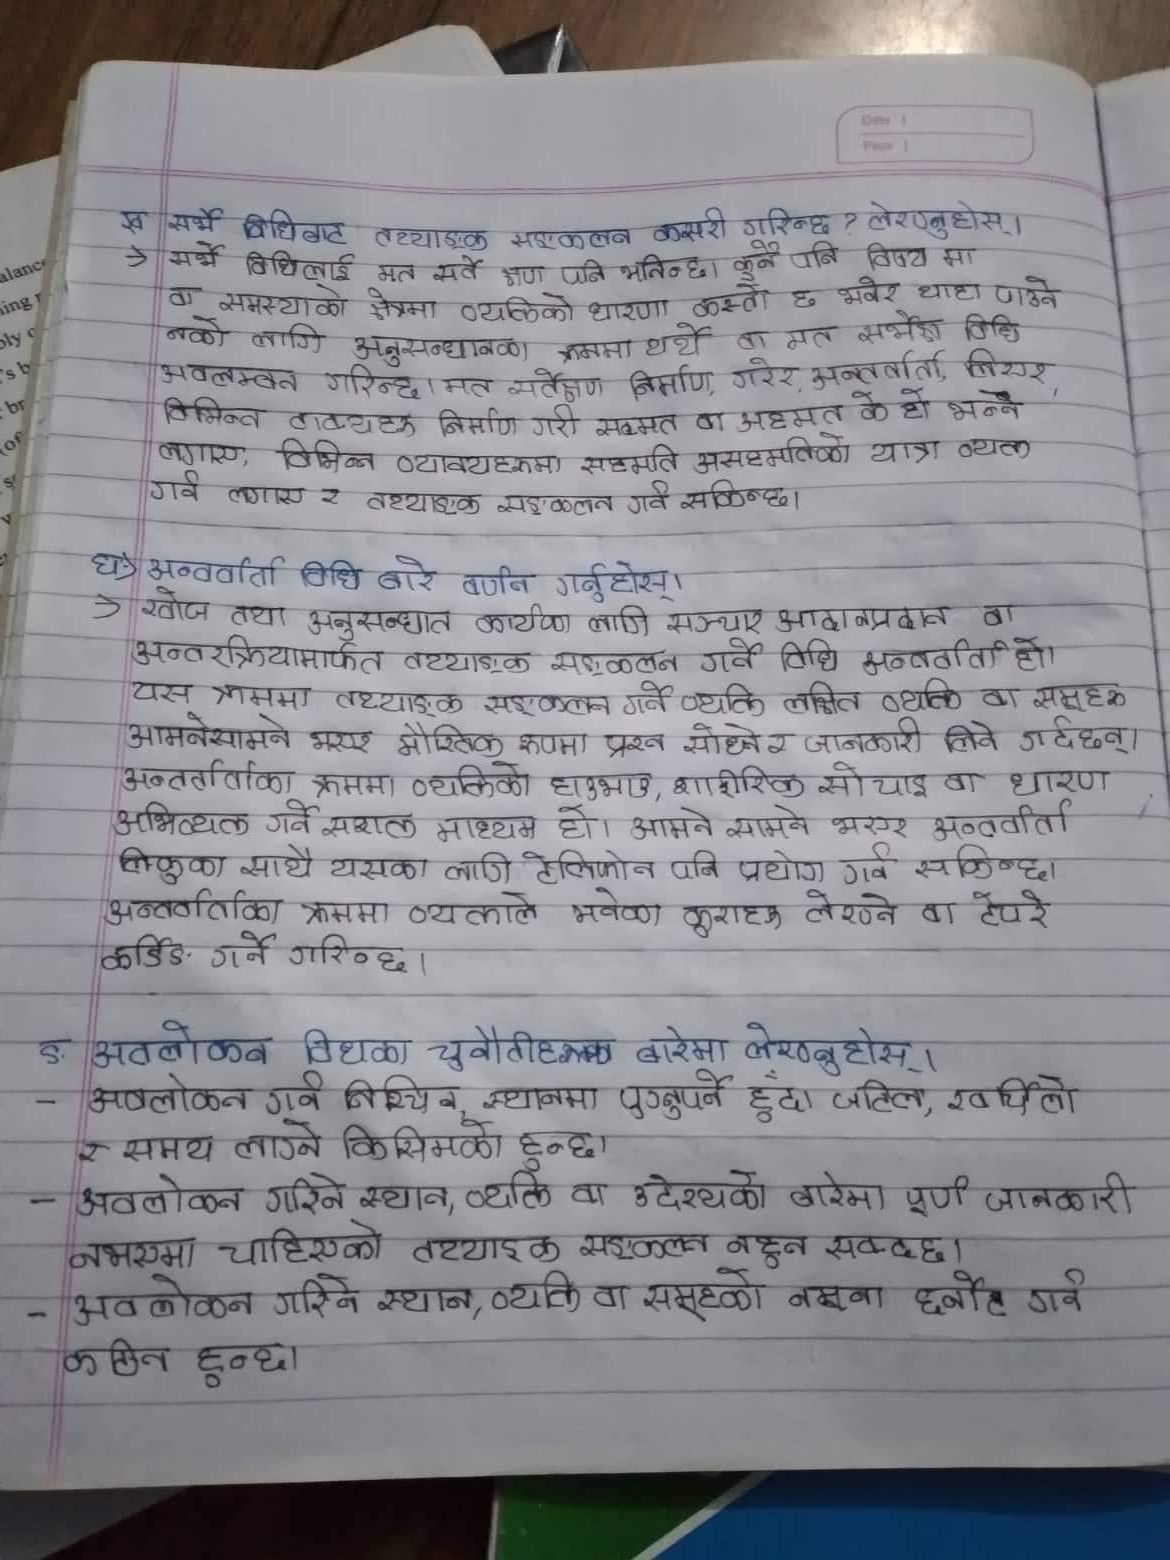text: (734, 1016, 932, 1070), (127, 636, 390, 676), (69, 1276, 261, 1327), (85, 1020, 277, 1069), (426, 1020, 618, 1065), (946, 1064, 1082, 1124), (75, 1176, 245, 1222), (643, 1265, 767, 1327), (111, 711, 291, 753), (81, 1071, 251, 1115), (984, 1169, 1138, 1217), (102, 886, 281, 926), (214, 1223, 386, 1264), (629, 1164, 769, 1212), (777, 599, 948, 636), (344, 330, 533, 364), (288, 930, 410, 980), (549, 555, 677, 603), (337, 1123, 500, 1160), (120, 758, 294, 792), (109, 797, 253, 838), (862, 200, 1010, 238), (928, 803, 1072, 843), (692, 434, 850, 469), (906, 1269, 1010, 1323), (854, 638, 1005, 674), (64, 1334, 175, 1384), (186, 1338, 296, 1388), (909, 848, 1058, 884), (156, 355, 304, 391), (145, 548, 281, 586), (618, 1074, 724, 1123), (822, 1226, 952, 1265), (66, 1233, 205, 1270), (406, 891, 540, 929), (299, 1022, 410, 1067), (520, 850, 658, 887), (782, 1167, 890, 1214), (571, 1226, 712, 1262), (390, 447, 562, 475), (1020, 1260, 1097, 1322), (407, 1231, 560, 1262), (333, 1074, 458, 1110), (390, 721, 506, 760), (667, 766, 810, 798), (218, 283, 349, 317), (800, 887, 901, 931), (283, 400, 417, 434), (398, 642, 532, 676), (807, 353, 946, 384), (306, 604, 456, 634), (104, 845, 224, 882), (409, 763, 532, 798), (785, 1279, 896, 1318), (226, 1121, 327, 1164), (238, 206, 350, 244), (678, 897, 787, 936), (801, 721, 924, 755), (560, 889, 667, 929), (1015, 720, 1136, 754), (1002, 762, 1113, 798), (336, 683, 463, 715), (272, 1273, 359, 1319), (478, 689, 613, 719), (817, 762, 925, 798), (510, 1124, 599, 1168), (1027, 678, 1133, 715), (971, 888, 1061, 931), (630, 1023, 725, 1064), (744, 1074, 816, 1126), (477, 1082, 601, 1113), (364, 221, 493, 251), (155, 396, 264, 430), (431, 809, 540, 844), (547, 768, 654, 802), (243, 246, 354, 279), (324, 850, 430, 884), (462, 1171, 554, 1210), (490, 489, 618, 517), (270, 440, 375, 474), (544, 649, 677, 676), (318, 365, 422, 399), (680, 482, 795, 512), (98, 934, 188, 973), (366, 486, 481, 517), (355, 1178, 453, 1214), (371, 1282, 476, 1316), (492, 1273, 579, 1312), (576, 443, 680, 477), (732, 849, 828, 884), (903, 1169, 975, 1217), (458, 294, 579, 322), (210, 677, 312, 710), (262, 1174, 348, 1214), (831, 1081, 925, 1117), (505, 225, 635, 251), (623, 806, 717, 841), (621, 365, 717, 399), (721, 1225, 805, 1264), (778, 682, 866, 719), (853, 308, 943, 344), (209, 929, 275, 977), (644, 208, 730, 244), (678, 684, 771, 719), (457, 558, 535, 598), (305, 765, 399, 798), (505, 370, 607, 400), (877, 678, 962, 715), (122, 1131, 215, 1164), (961, 346, 1051, 381), (469, 604, 574, 634), (322, 809, 422, 840), (297, 895, 390, 927), (662, 607, 771, 634), (725, 805, 810, 839), (736, 208, 833, 237), (678, 722, 761, 757), (149, 436, 248, 464), (241, 841, 313, 879), (297, 553, 367, 592), (374, 552, 438, 595), (265, 1071, 326, 1117), (435, 408, 521, 439), (946, 393, 1032, 424), (989, 271, 1063, 307), (583, 606, 656, 641), (955, 432, 1036, 464), (724, 355, 796, 391), (642, 323, 712, 360), (771, 640, 842, 676), (737, 404, 843, 427), (512, 726, 589, 758), (551, 335, 635, 364), (833, 808, 908, 840), (584, 294, 672, 321), (441, 851, 512, 884), (618, 255, 705, 283), (363, 287, 436, 319), (227, 477, 301, 509), (839, 841, 893, 884), (689, 286, 766, 316), (599, 727, 666, 760), (306, 725, 379, 755), (224, 601, 292, 633), (696, 639, 761, 672), (139, 590, 206, 622), (594, 411, 677, 437), (938, 720, 999, 754), (160, 317, 231, 346), (833, 273, 898, 305), (249, 324, 322, 353), (862, 240, 925, 270), (147, 470, 204, 505), (865, 437, 944, 462), (263, 801, 317, 835), (961, 312, 1024, 341), (626, 478, 672, 517), (128, 679, 202, 704), (551, 805, 600, 841), (975, 596, 1025, 631), (669, 848, 720, 882), (163, 205, 226, 233), (589, 1274, 630, 1316), (621, 681, 669, 716), (1009, 633, 1052, 672), (166, 238, 224, 267), (780, 322, 836, 351), (528, 407, 579, 439), (560, 1178, 613, 1207), (560, 257, 608, 289), (431, 254, 485, 283), (104, 201, 147, 236), (939, 765, 984, 797), (922, 899, 962, 932), (917, 280, 984, 300), (33, 1031, 69, 1067), (71, 1131, 106, 1169), (87, 547, 128, 579), (439, 373, 494, 397), (978, 681, 1020, 711), (898, 387, 932, 423), (374, 258, 422, 283), (854, 389, 889, 423), (779, 287, 823, 312), (501, 264, 544, 287), (939, 243, 976, 270), (691, 408, 729, 434), (163, 280, 202, 305), (732, 326, 771, 350), (764, 730, 791, 757), (318, 484, 347, 509)
